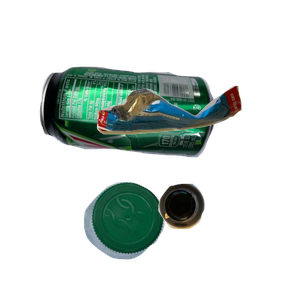glass: (156, 181, 300, 300)
metal: (37, 64, 245, 214)
plastic: (81, 179, 239, 300)
trash: (94, 83, 300, 210)
